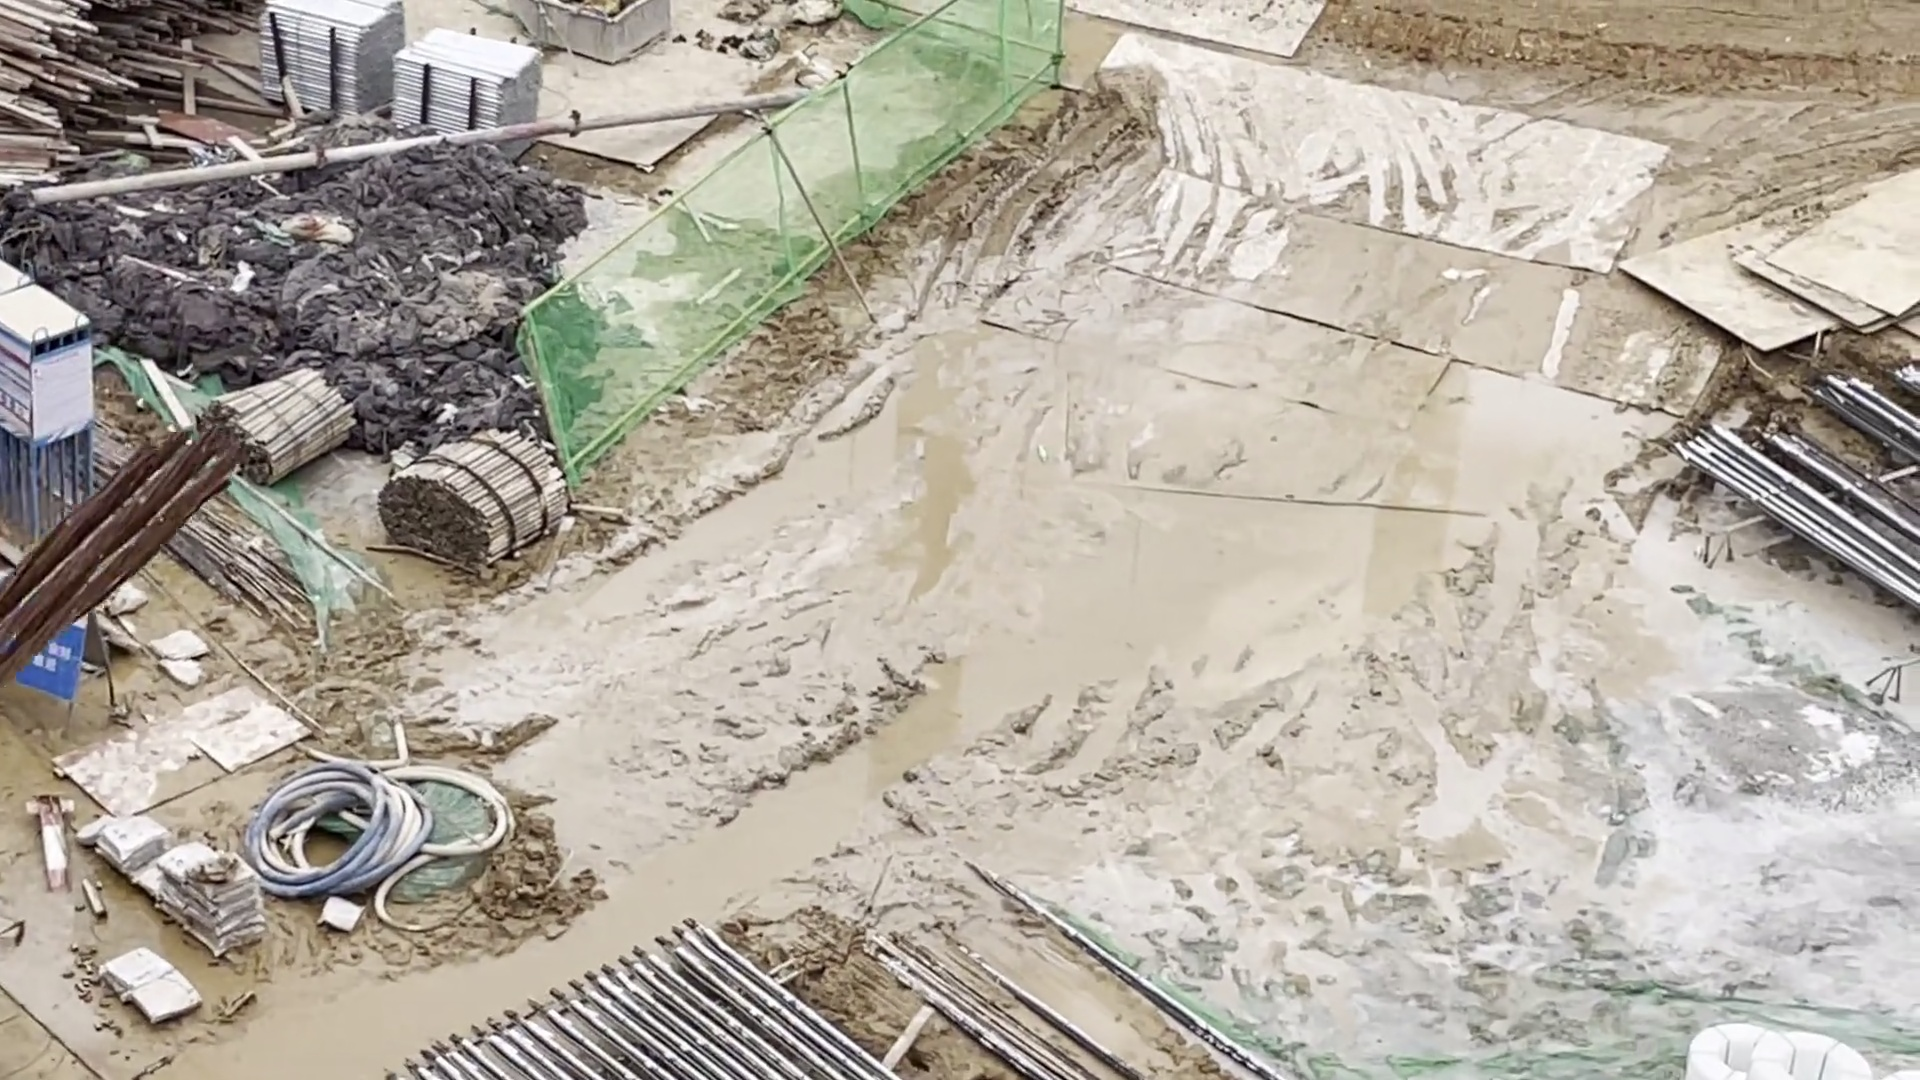hopper: (508, 3, 673, 63)
scaffold: (392, 22, 547, 161), (256, 3, 400, 123)
wood: (375, 433, 568, 560), (200, 367, 369, 485)
